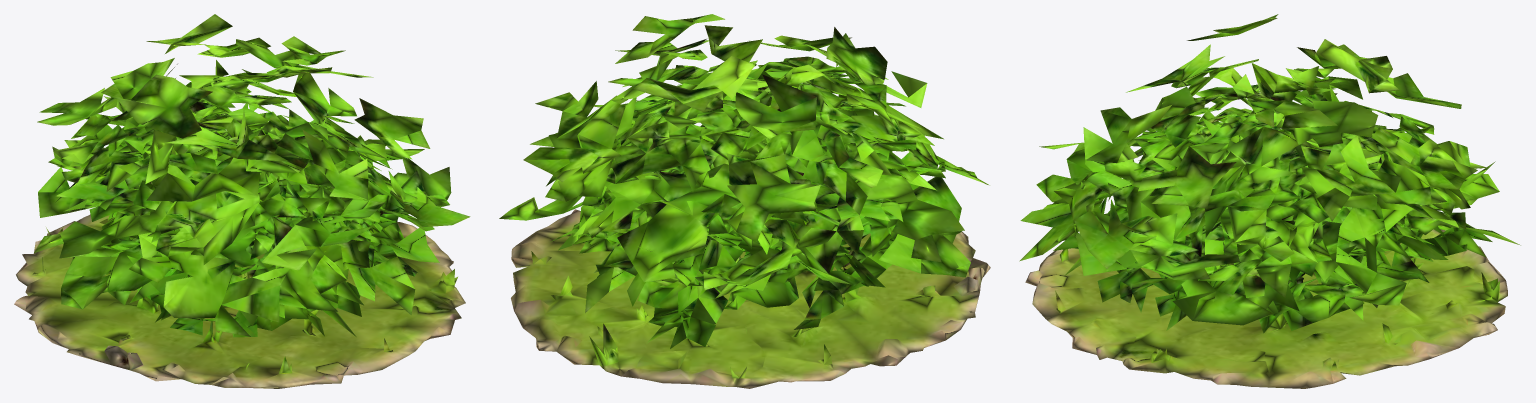
Rendered from bush.glb.
3 renders of one model, left to right at view 1: azimuth 30°, elevation 25°; view 2: azimuth 150°, elevation 25°; view 3: azimuth 270°, elevation 25°, orthographic. The views are drawn at different scales.
Parts seen in each view (by area): view 1: mesh_node; view 2: mesh_node; view 3: mesh_node.
Part boxes in pixels (x1,y1,x2,y2): mesh_node: (14, 14, 470, 388); mesh_node: (499, 14, 990, 388); mesh_node: (1019, 14, 1520, 388).
Size of the model in its own units: 0.6106 by 0.35 by 0.6714.
1 material, 1 textured.
